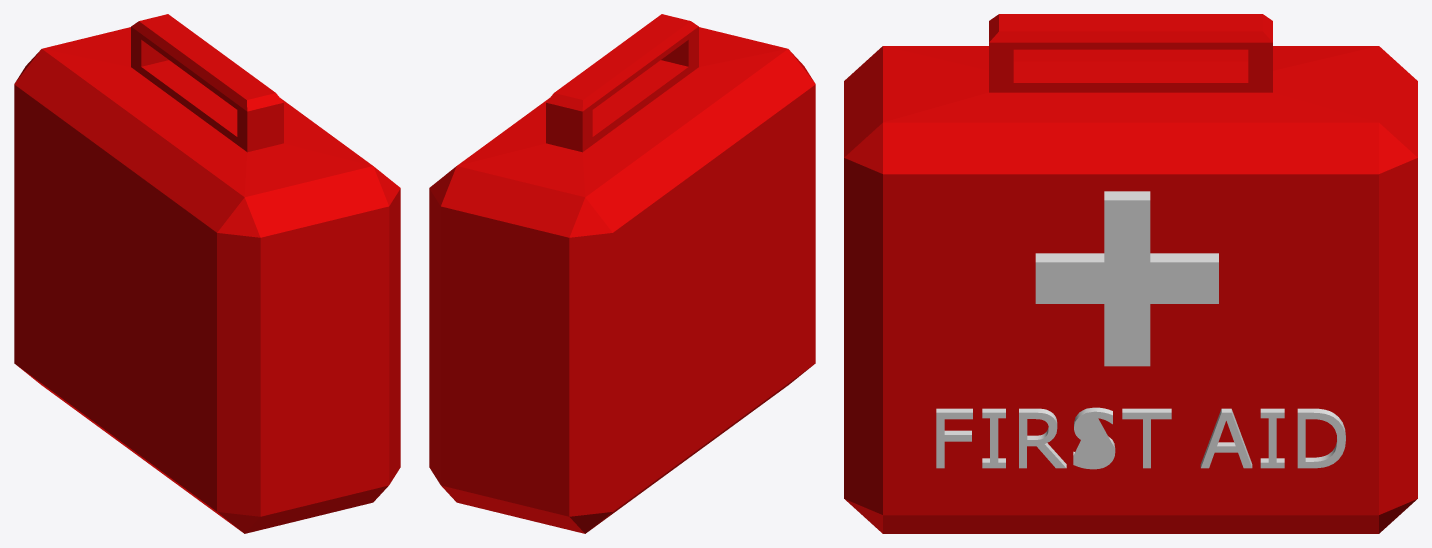
The model's file is Medkit.fbx.
3 renders of one model, left to right at view 1: azimuth 30°, elevation 25°; view 2: azimuth 150°, elevation 25°; view 3: azimuth 270°, elevation 25°, orthographic. The views are drawn at different scales.
Parts seen in each view (by area): view 1: typeMesh2; view 2: typeMesh2; view 3: typeMesh2.
Part boxes in pixels (x1=…): typeMesh2: x1=14, y1=14, x2=400, y2=533; typeMesh2: x1=429, y1=14, x2=815, y2=533; typeMesh2: x1=844, y1=14, x2=1417, y2=533.
Bounding box in the file's own units: 0.664 × 1.24 × 1.36.
